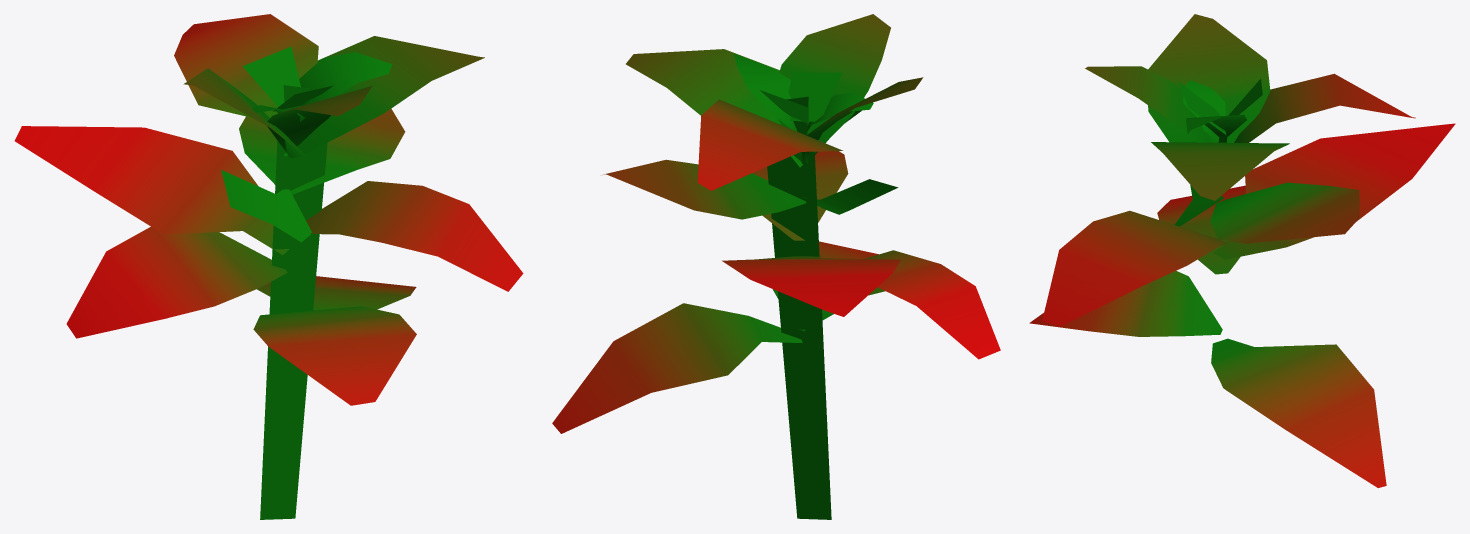
File: Var2_LOD2.fbx
3 renders of one model, left to right at view 1: azimuth 30°, elevation 25°; view 2: azimuth 150°, elevation 25°; view 3: azimuth 270°, elevation 25°, orthographic. The views are drawn at different scales.
Parts seen in each view (by area): view 1: _a303_Var2_LOD2; view 2: _a303_Var2_LOD2; view 3: _a303_Var2_LOD2.
Boxes of the visible parts, box(x1,y1,x2,y2) form: _a303_Var2_LOD2: box(14, 14, 523, 519); _a303_Var2_LOD2: box(552, 14, 1000, 519); _a303_Var2_LOD2: box(1029, 14, 1455, 487).
Bounding box in the file's own units: 19.39 × 22.19 × 19.
